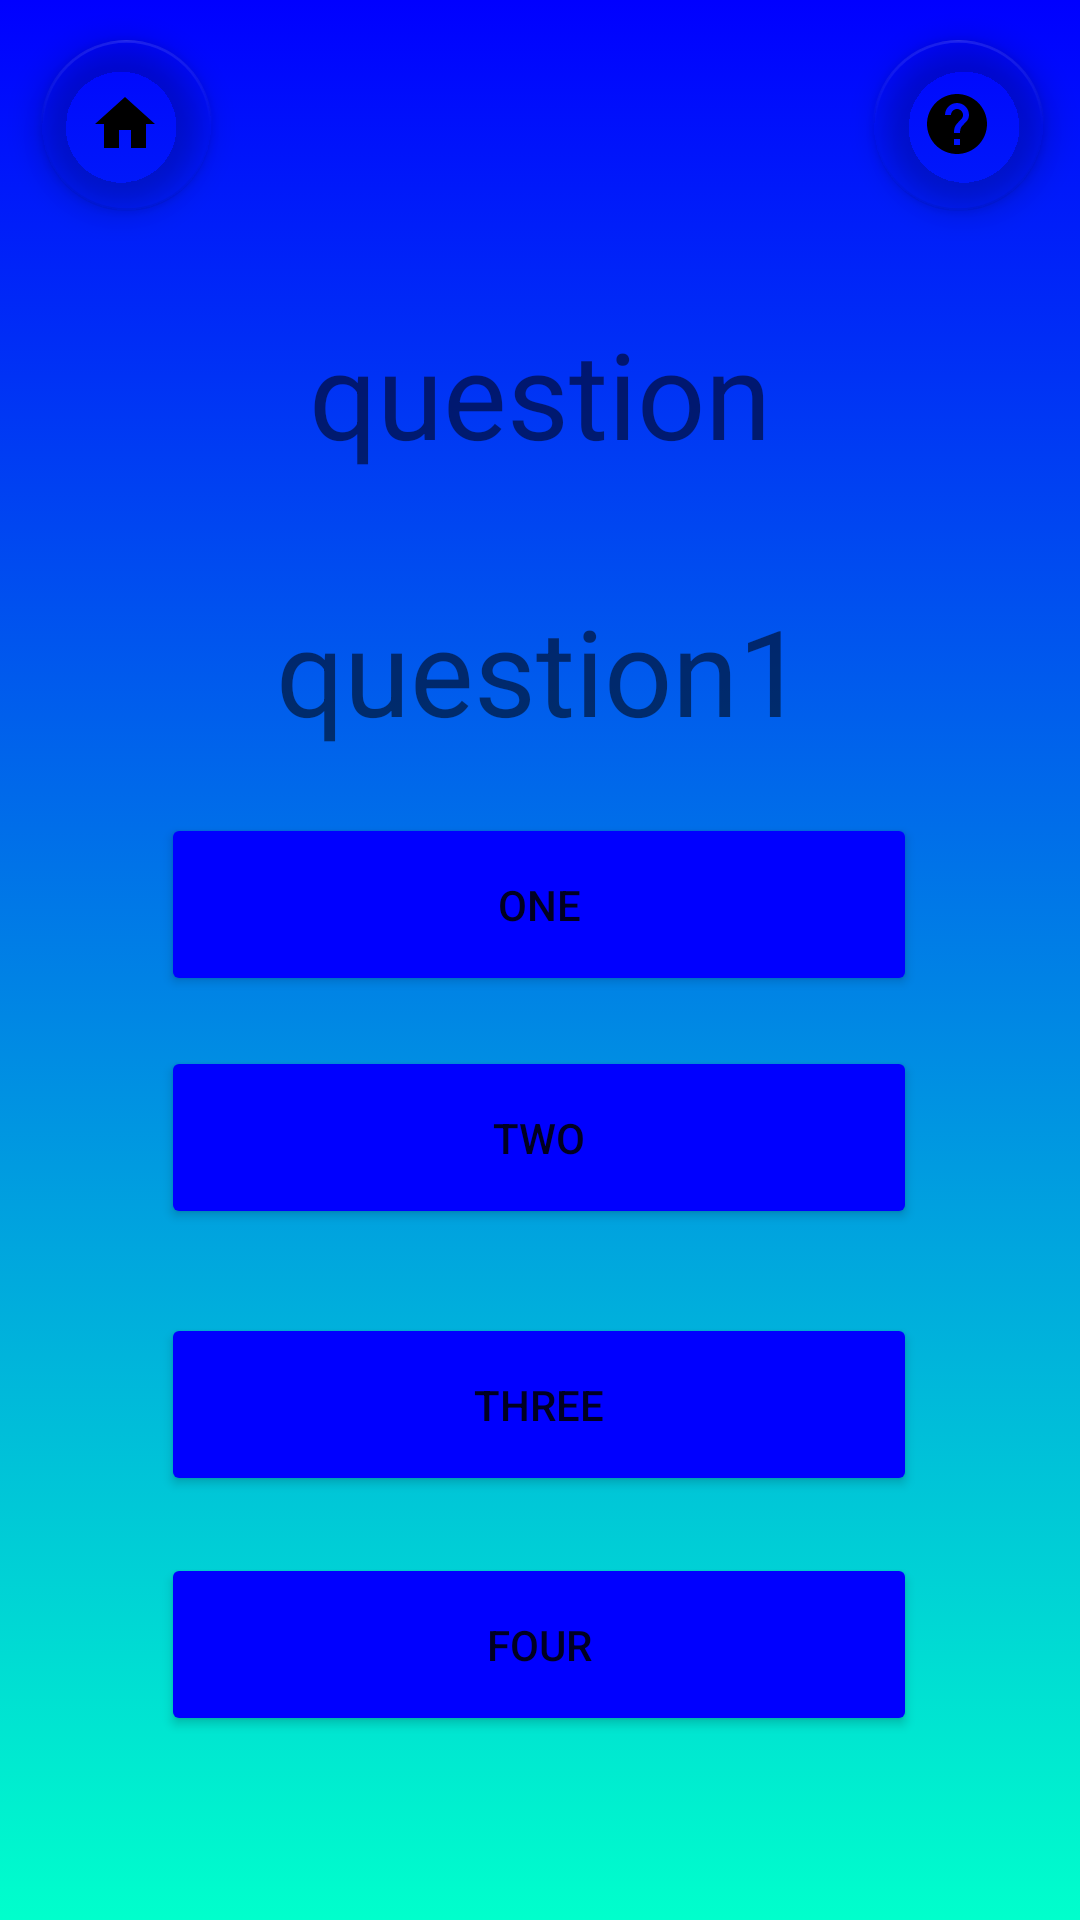

Icons on this 1080*1920 Android screen, each with its box as (x1, y1, x2, y2):
help: (874, 40, 1044, 211)
home: (41, 40, 212, 211)
